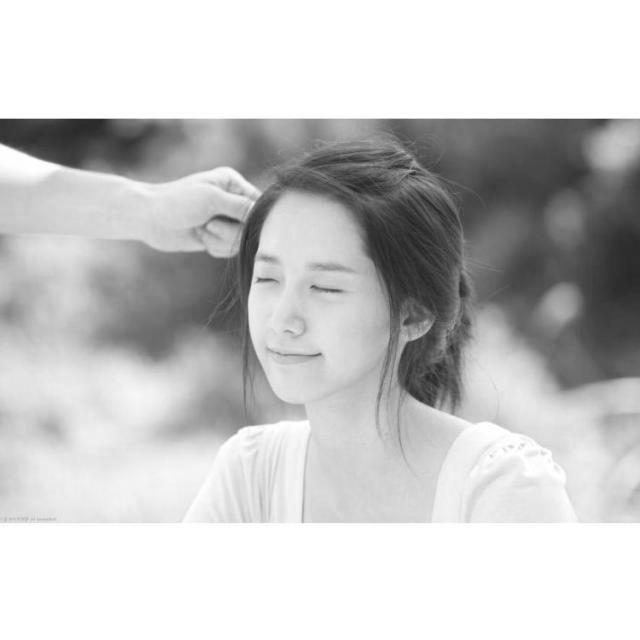real: (242, 172, 406, 406)
